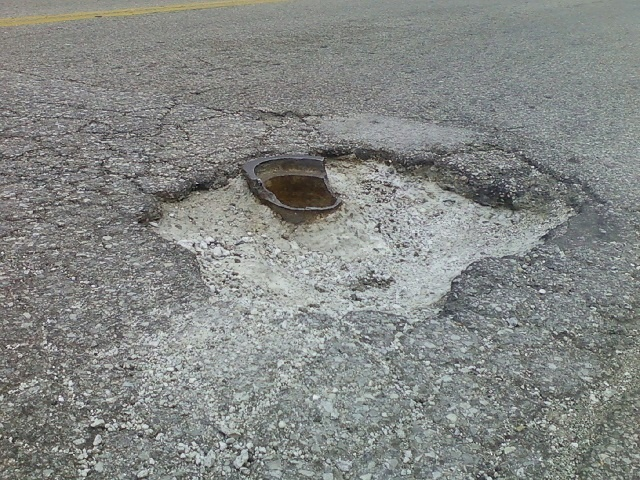pothole: (137, 153, 581, 330)
